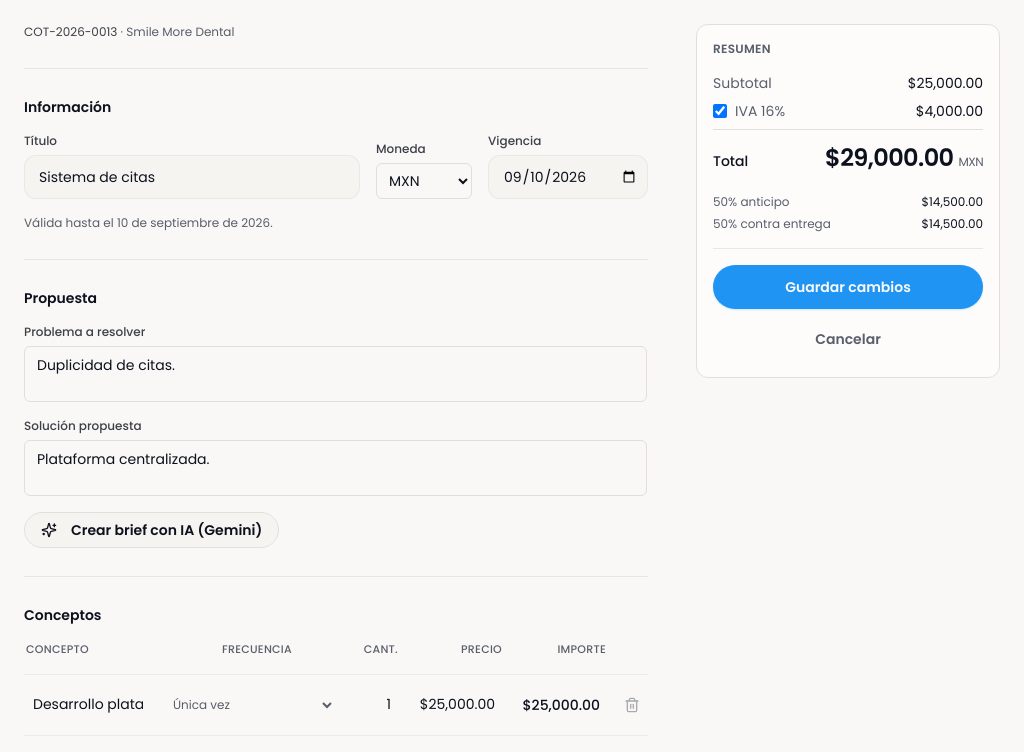
Test: microajustes de cierre › fuera de foco el precio se lee como dinero; al enfocar vuelve a crudo
Focus the field named "Precio unitario del concepto 1" at x=456, y=704, box [408,682,504,726]
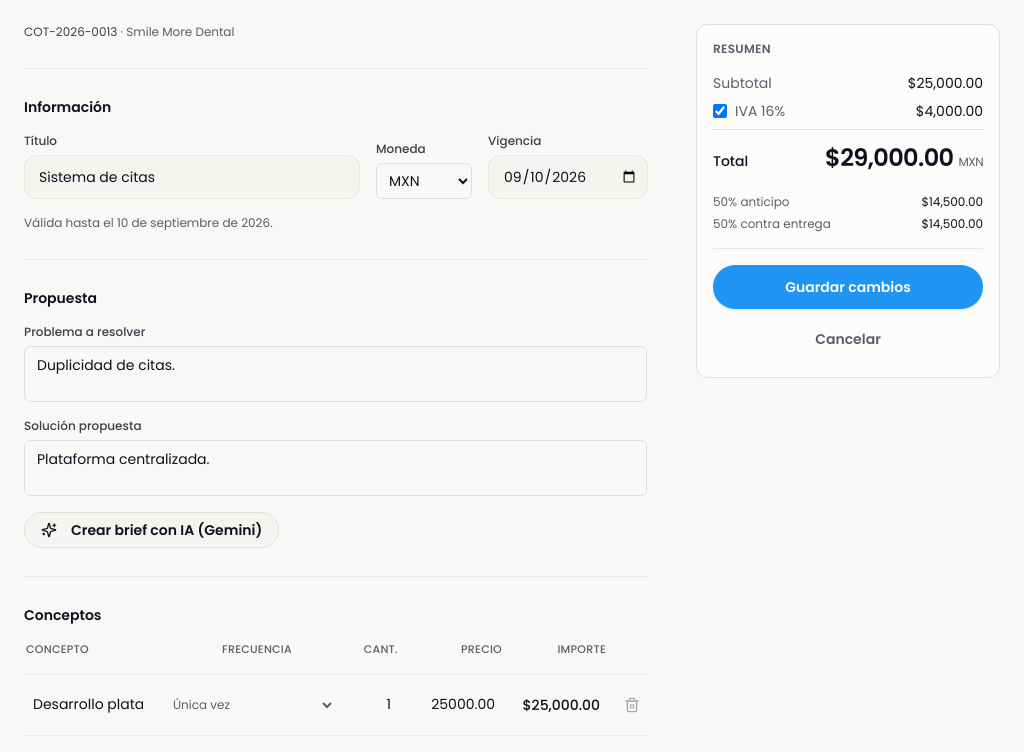
Result: the field named "Precio unitario del concepto 1" holds "25000.00"
Leave the field named "Precio unitario del concepto 1", box [408,682,504,726]
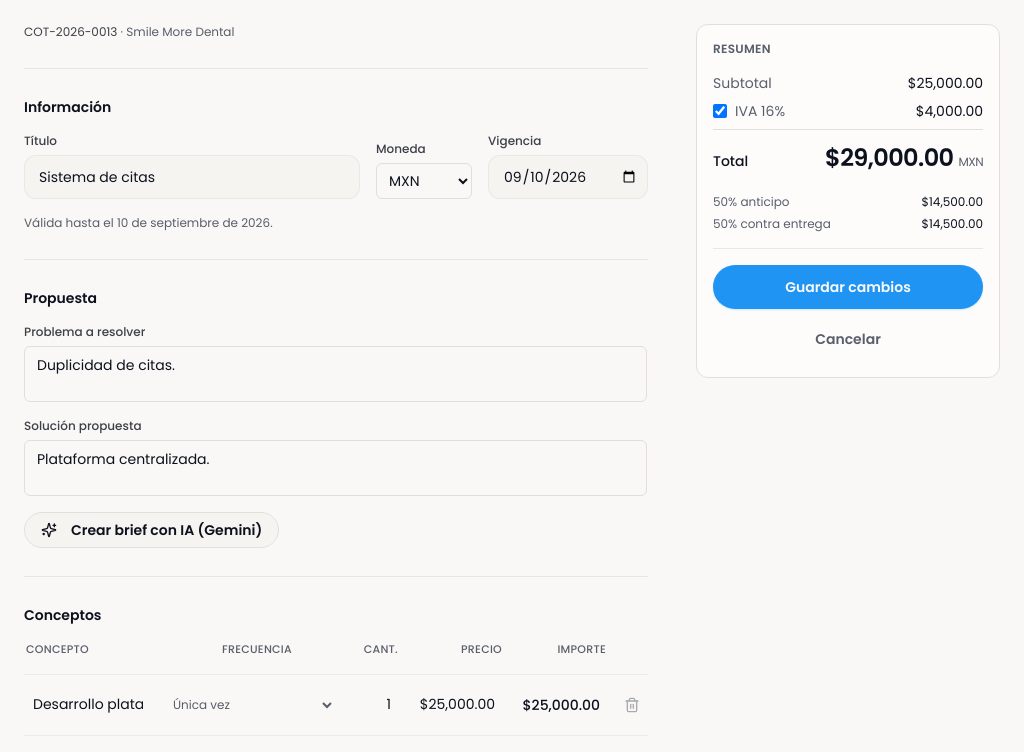
Result: the field named "Precio unitario del concepto 1" holds "$25,000.00" at [408,682,504,726]
